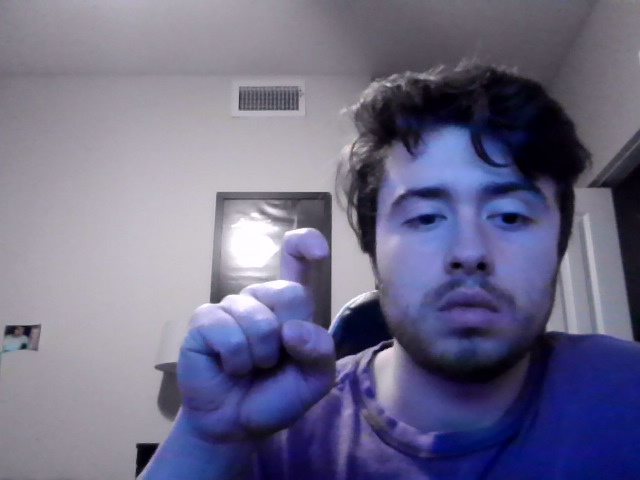x: (176, 227, 336, 468)
